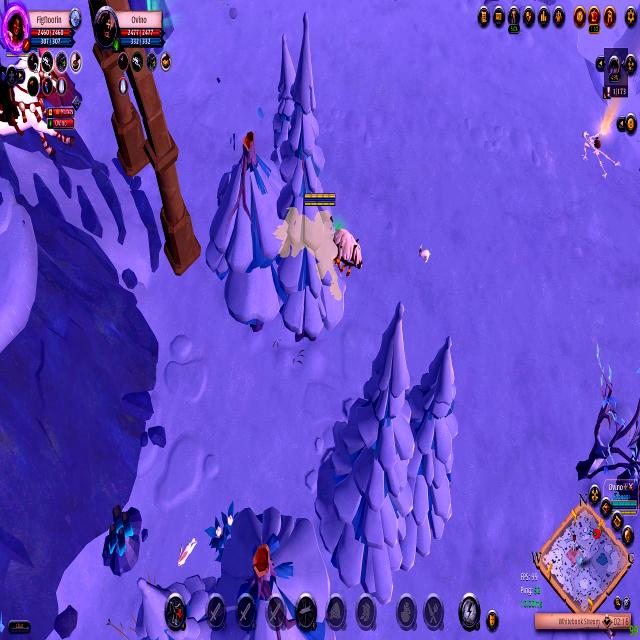hide: (204, 495, 248, 569)
player: (90, 491, 152, 583)
red: (267, 176, 369, 329), (0, 34, 78, 162)
